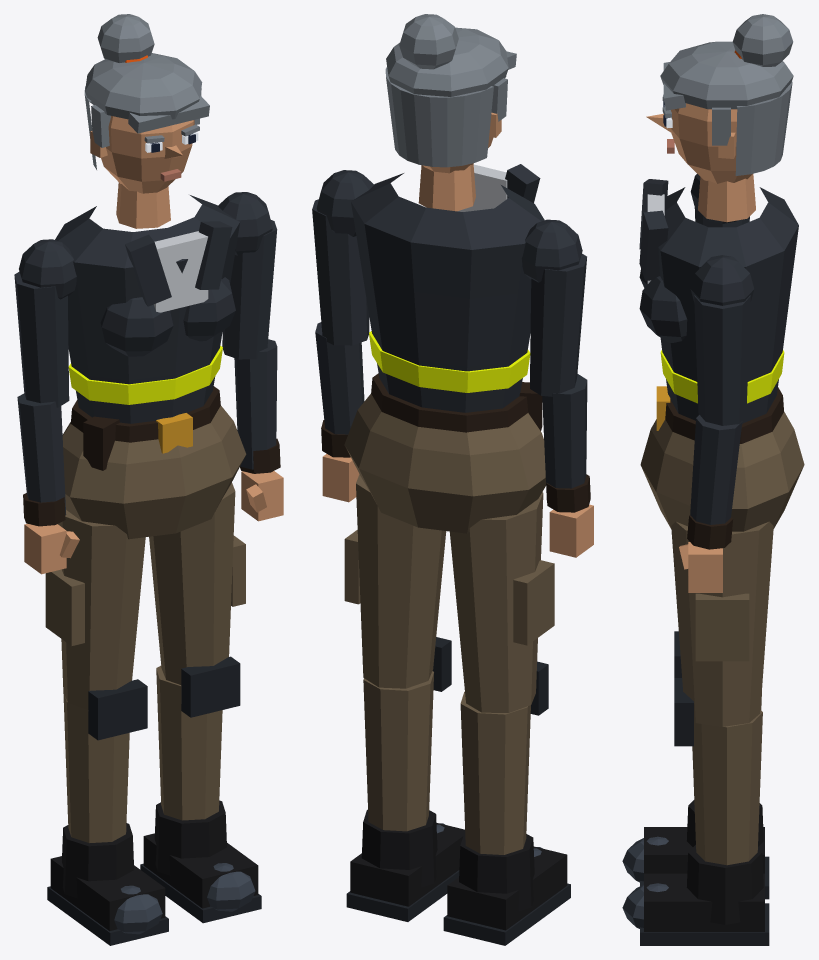
Rendered from tammy_scalehouse_rig.glb.
3 views of the same model, side by side, from view 1: azimuth 30°, elevation 25°; view 2: azimuth 150°, elevation 25°; view 3: azimuth 270°, elevation 25° (orthographic). The views are drawn at different scales.
Visible parts, largest first — view 1: Torso_Jacket_Female, Pelvis_Hips_Female, Leg_Upper_R, Leg_Upper_L, Leg_Lower_R, Leg_Lower_L, Hair_Top_Dome, Arm_Upper_L, Arm_Upper_R, Head_Cranium_Base, Arm_Lower_L, Arm_Lower_R (+31 smaller); view 2: Torso_Jacket_Female, Pelvis_Hips_Female, Leg_Upper_L, Leg_Upper_R, Leg_Lower_R, Leg_Lower_L, Hair_Back_Nape_Shell, Arm_Upper_L, Arm_Upper_R, Hair_Top_Dome, Arm_Lower_L, Boot_Vamp_L (+23 smaller); view 3: Torso_Jacket_Female, Leg_Upper_R, Pelvis_Hips_Female, Leg_Lower_R, Arm_Upper_R, Hair_Top_Dome, Boot_Vamp_R, Arm_Lower_R, Boot_Ankle_Shaft_R, Cargo_Pocket_R, Hair_Back_Nape_Shell, Head_Cranium_Base (+19 smaller).
Boxes of the visible parts, x1=… form: Torso_Jacket_Female: x1=55, y1=195, x2=239, y2=423; Pelvis_Hips_Female: x1=62, y1=405, x2=246, y2=539; Leg_Upper_R: x1=149, y1=482, x2=235, y2=684; Leg_Upper_L: x1=58, y1=510, x2=145, y2=709; Leg_Lower_R: x1=156, y1=665, x2=222, y2=820; Leg_Lower_L: x1=63, y1=692, x2=129, y2=842; Hair_Top_Dome: x1=85, y1=53, x2=202, y2=119; Arm_Upper_L: x1=14, y1=271, x2=69, y2=407; Arm_Upper_R: x1=222, y1=220, x2=277, y2=359; Head_Cranium_Base: x1=101, y1=116, x2=194, y2=193; Arm_Lower_L: x1=17, y1=393, x2=66, y2=515; Arm_Lower_R: x1=234, y1=339, x2=277, y2=469; Torso_Jacket_Female: x1=351, y1=173, x2=544, y2=412; Pelvis_Hips_Female: x1=344, y1=394, x2=545, y2=533; Leg_Upper_L: x1=449, y1=492, x2=543, y2=712; Leg_Upper_R: x1=356, y1=474, x2=446, y2=688; Leg_Lower_R: x1=363, y1=671, x2=433, y2=831; Leg_Lower_L: x1=460, y1=691, x2=530, y2=854; Hair_Back_Nape_Shell: x1=385, y1=67, x2=493, y2=167; Arm_Upper_L: x1=530, y1=253, x2=586, y2=396; Arm_Upper_R: x1=312, y1=199, x2=369, y2=345; Hair_Top_Dome: x1=386, y1=27, x2=508, y2=96; Arm_Lower_L: x1=542, y1=373, x2=587, y2=499; Boot_Vamp_L: x1=447, y1=846, x2=567, y2=930; Torso_Jacket_Female: x1=658, y1=187, x2=798, y2=422; Leg_Upper_R: x1=671, y1=521, x2=773, y2=726; Pelvis_Hips_Female: x1=640, y1=411, x2=804, y2=531; Leg_Lower_R: x1=692, y1=710, x2=762, y2=865; Arm_Upper_R: x1=694, y1=295, x2=750, y2=425; Hair_Top_Dome: x1=660, y1=41, x2=793, y2=109; Boot_Vamp_R: x1=644, y1=873, x2=764, y2=931; Arm_Lower_R: x1=690, y1=415, x2=742, y2=524; Boot_Ankle_Shaft_R: x1=686, y1=845, x2=763, y2=924; Cargo_Pocket_R: x1=695, y1=593, x2=749, y2=661; Hair_Back_Nape_Shell: x1=735, y1=81, x2=792, y2=175; Head_Cranium_Base: x1=671, y1=103, x2=752, y2=183.
Bounding box in the file's own units: 0.5432 × 1.75 × 0.3239.
